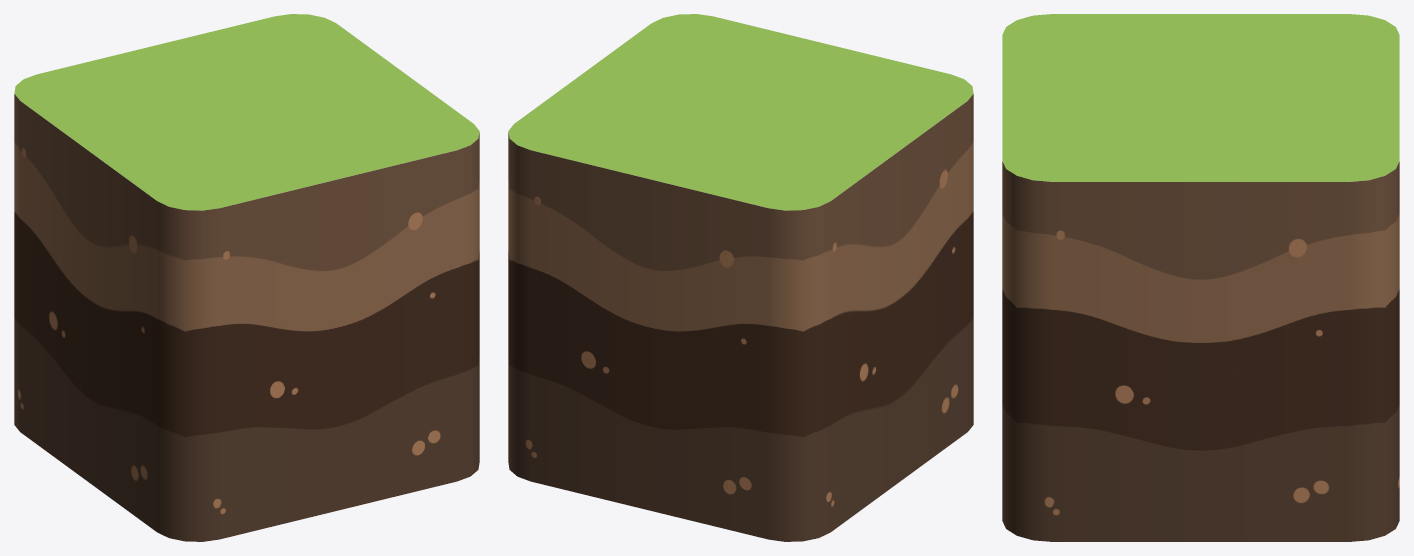
The model's file is GrassTile_Test.fbx.
3 views of the same model, side by side, from view 1: azimuth 30°, elevation 25°; view 2: azimuth 150°, elevation 25°; view 3: azimuth 270°, elevation 25° (orthographic). The views are drawn at different scales.
Visible parts, largest first — view 1: GrassTile_Single; view 2: GrassTile_Single; view 3: GrassTile_Single.
Part boxes in pixels (left/top/right/bottom): GrassTile_Single: left=14, top=14, right=479, bottom=541; GrassTile_Single: left=508, top=14, right=973, bottom=541; GrassTile_Single: left=1002, top=14, right=1399, bottom=541.
Bounding box in the file's own units: 200 × 200 × 200.
